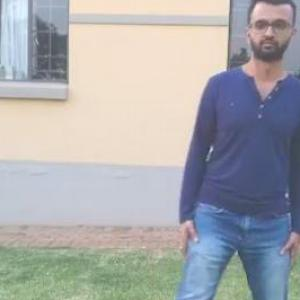follow: (191, 0, 299, 299)
